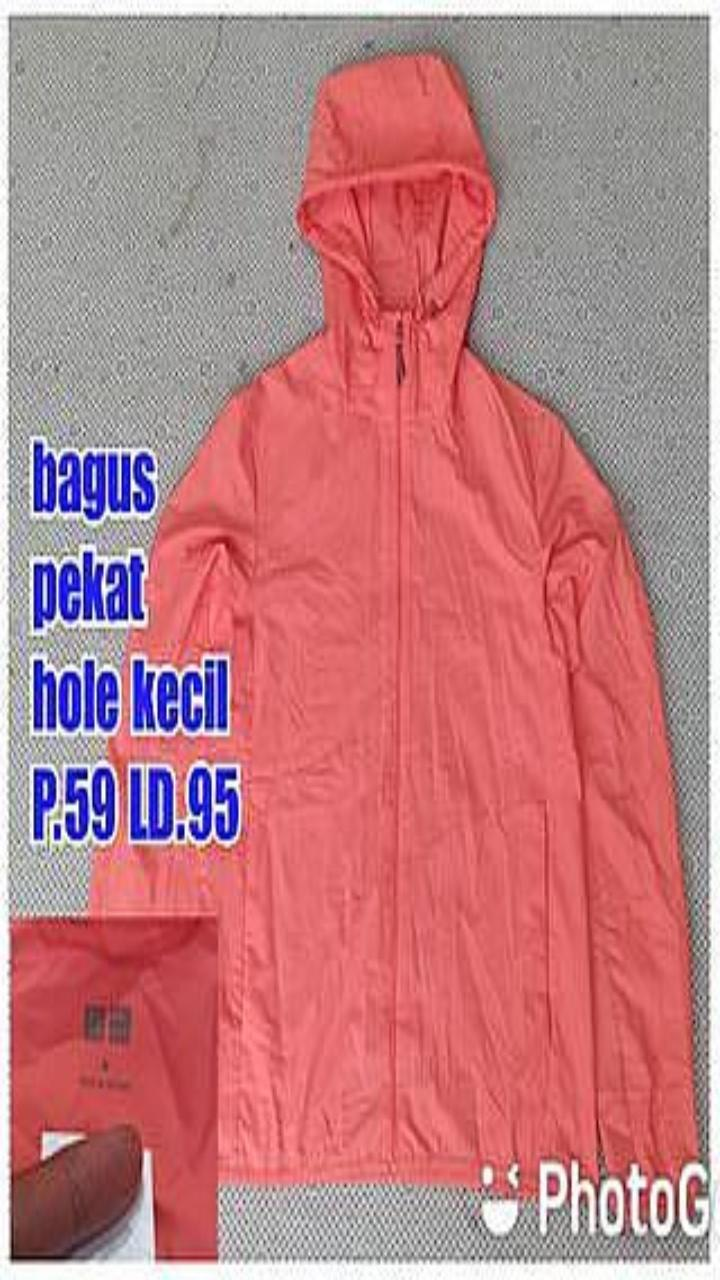Sports_Jacket: (90, 53, 696, 1193)
